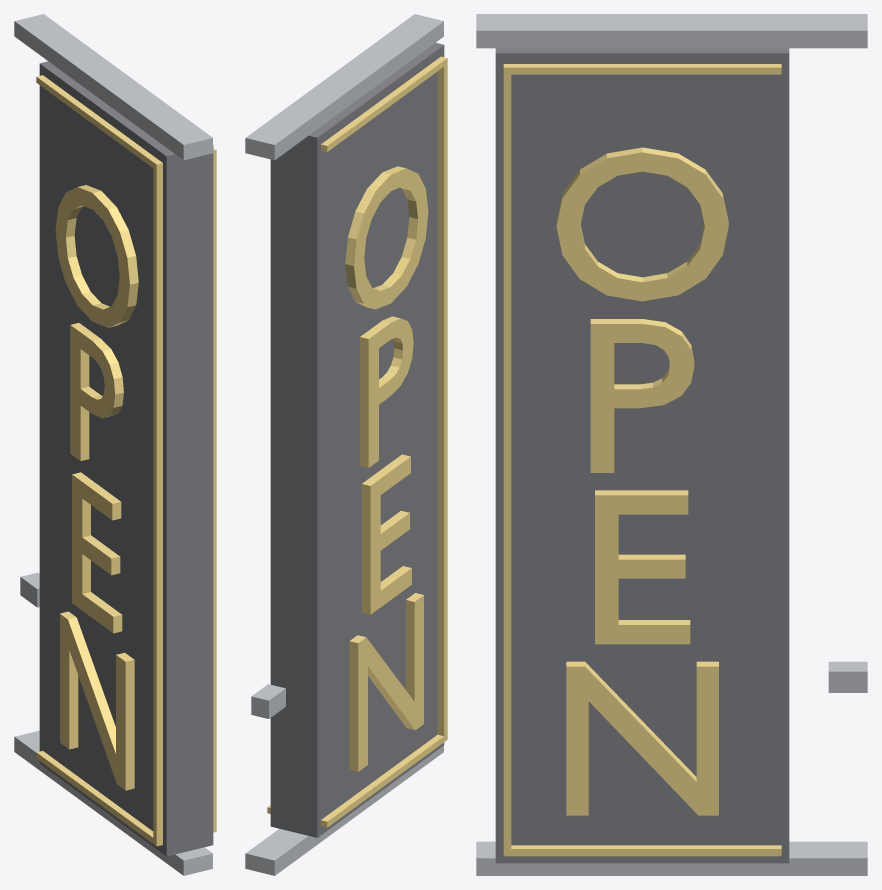
The model's file is neon_open.glb.
3 views of the same model, side by side, from view 1: azimuth 30°, elevation 25°; view 2: azimuth 150°, elevation 25°; view 3: azimuth 270°, elevation 25° (orthographic). The views are drawn at different scales.
Parts seen in each view (by area): view 1: neon_open; view 2: neon_open; view 3: neon_open.
Part boxes in pixels (x1=…): neon_open: x1=14, y1=14, x2=216, y2=875; neon_open: x1=245, y1=14, x2=447, y2=875; neon_open: x1=476, y1=14, x2=867, y2=875.
Size of the model in its own units: 0.23 by 2.38 by 1.
